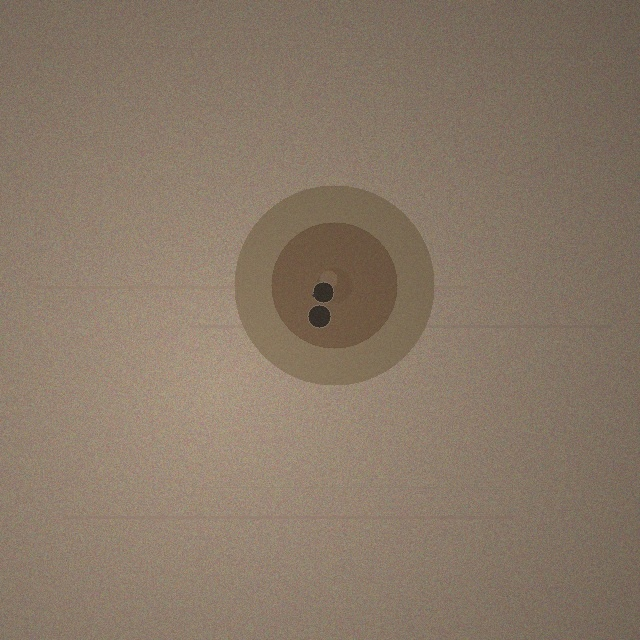shrinkage: (234, 185, 434, 385)
